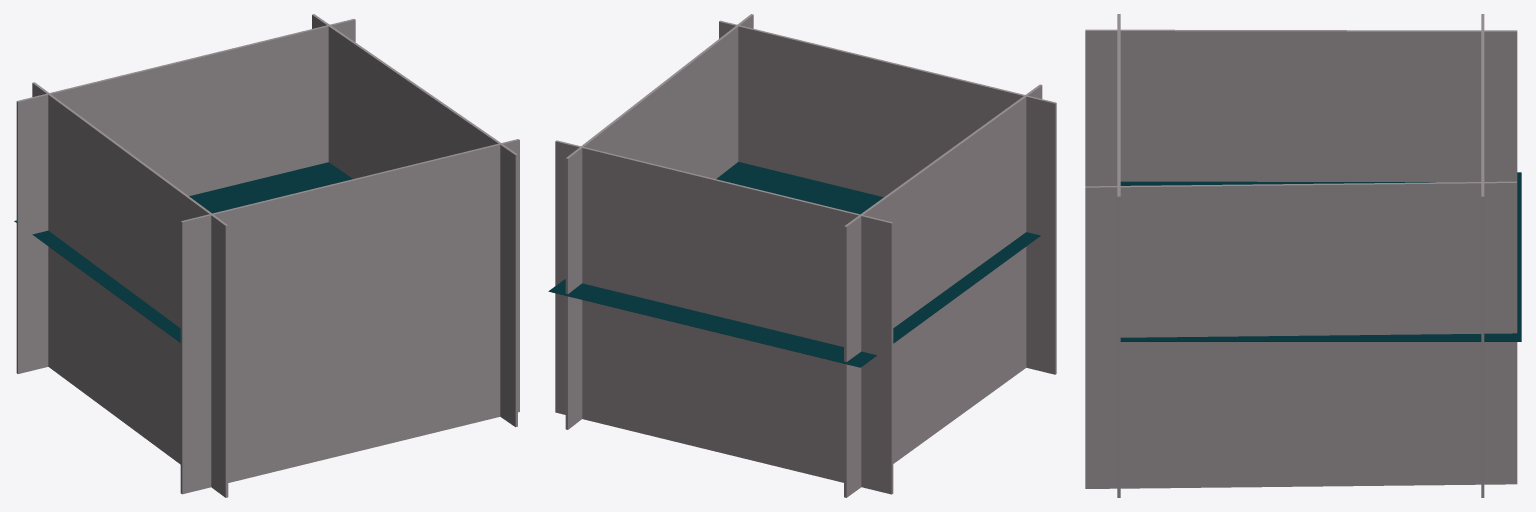
The model's file is room.glb.
3 renders of one model, left to right at view 1: azimuth 30°, elevation 25°; view 2: azimuth 150°, elevation 25°; view 3: azimuth 270°, elevation 25°, orthographic. The views are drawn at different scales.
Parts seen in each view (by area): view 1: Cube.002, Cube.005, Cube.001, Cube.003, Cube; view 2: Cube.001, Cube.005, Cube.002, Cube.003, Cube; view 3: Cube.003, Cube.005, Cube, Cube.002, Cube.001.
Boxes of the visible parts, left/top/right/bottom form: Cube.002: left=180, top=139, right=519, bottom=494; Cube.005: left=32, top=82, right=228, bottom=497; Cube.001: left=16, top=19, right=355, bottom=373; Cube.003: left=312, top=14, right=517, bottom=427; Cube: left=14, top=162, right=352, bottom=342; Cube.001: left=555, top=140, right=893, bottom=494; Cube.005: left=844, top=84, right=1042, bottom=497; Cube.002: left=719, top=20, right=1056, bottom=374; Cube.003: left=565, top=14, right=753, bottom=429; Cube: left=548, top=162, right=1040, bottom=367; Cube.003: left=1085, top=181, right=1517, bottom=488; Cube.005: left=1085, top=29, right=1517, bottom=186; Cube: left=1120, top=172, right=1521, bottom=341; Cube.002: left=1117, top=14, right=1120, bottom=497; Cube.001: left=1481, top=14, right=1484, bottom=497.
Size of the model in its own units: 485 by 374 by 490.
